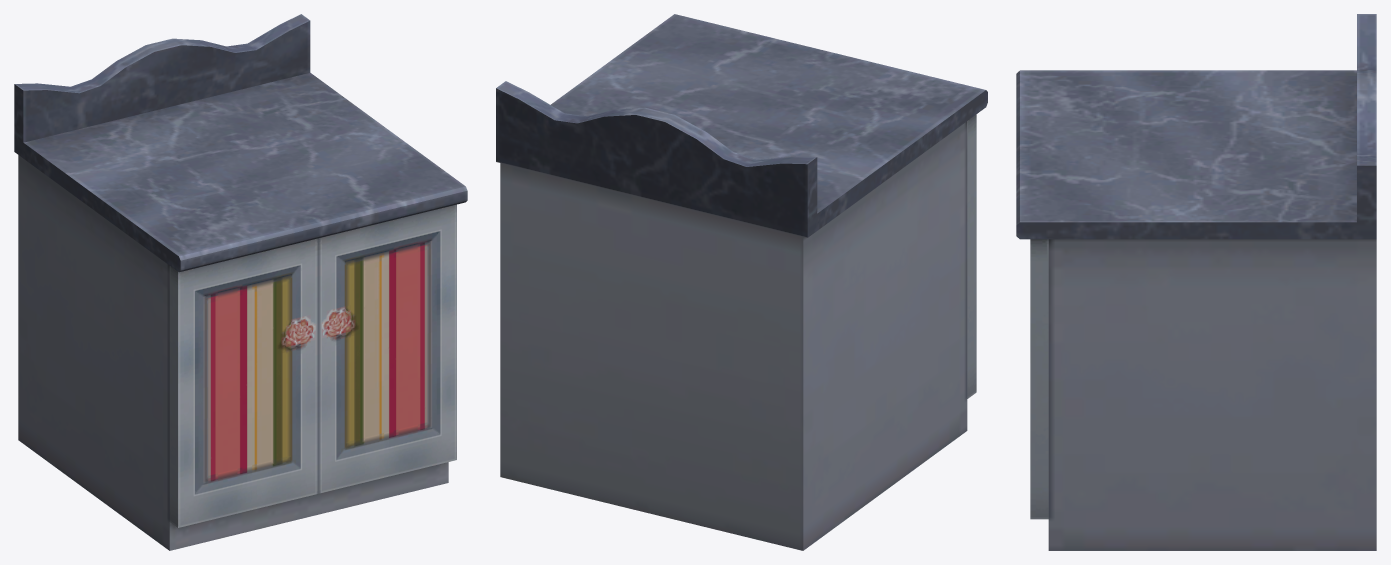
The model's file is furni_0200616.FBX.
3 renders of one model, left to right at view 1: azimuth 30°, elevation 25°; view 2: azimuth 150°, elevation 25°; view 3: azimuth 270°, elevation 25°, orthographic. The views are drawn at different scales.
Parts seen in each view (by area): view 1: furni_0200616; view 2: furni_0200616; view 3: furni_0200616.
Part boxes in pixels (left/top/right/bottom): furni_0200616: left=14, top=14, right=467, bottom=550; furni_0200616: left=496, top=14, right=987, bottom=550; furni_0200616: left=1016, top=14, right=1376, bottom=550.
Bounding box in the file's own units: 79.61 × 96.53 × 79.84.
Materials: 1 (1 with a texture image).
